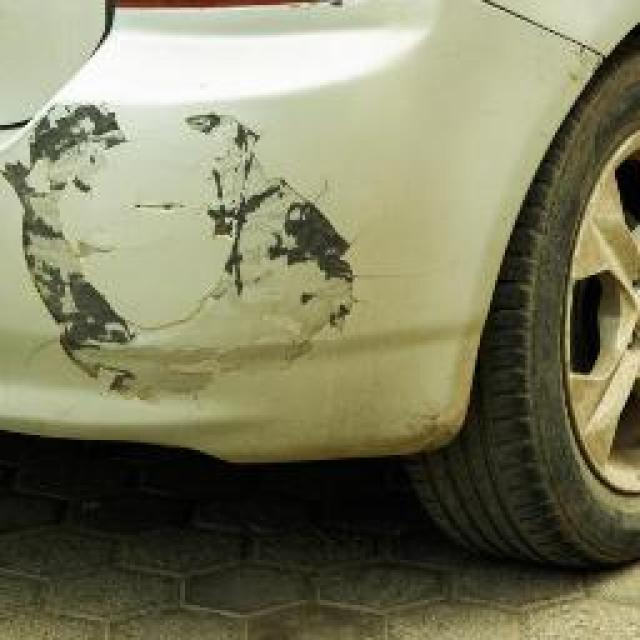Bumper: (2, 92, 450, 442)
